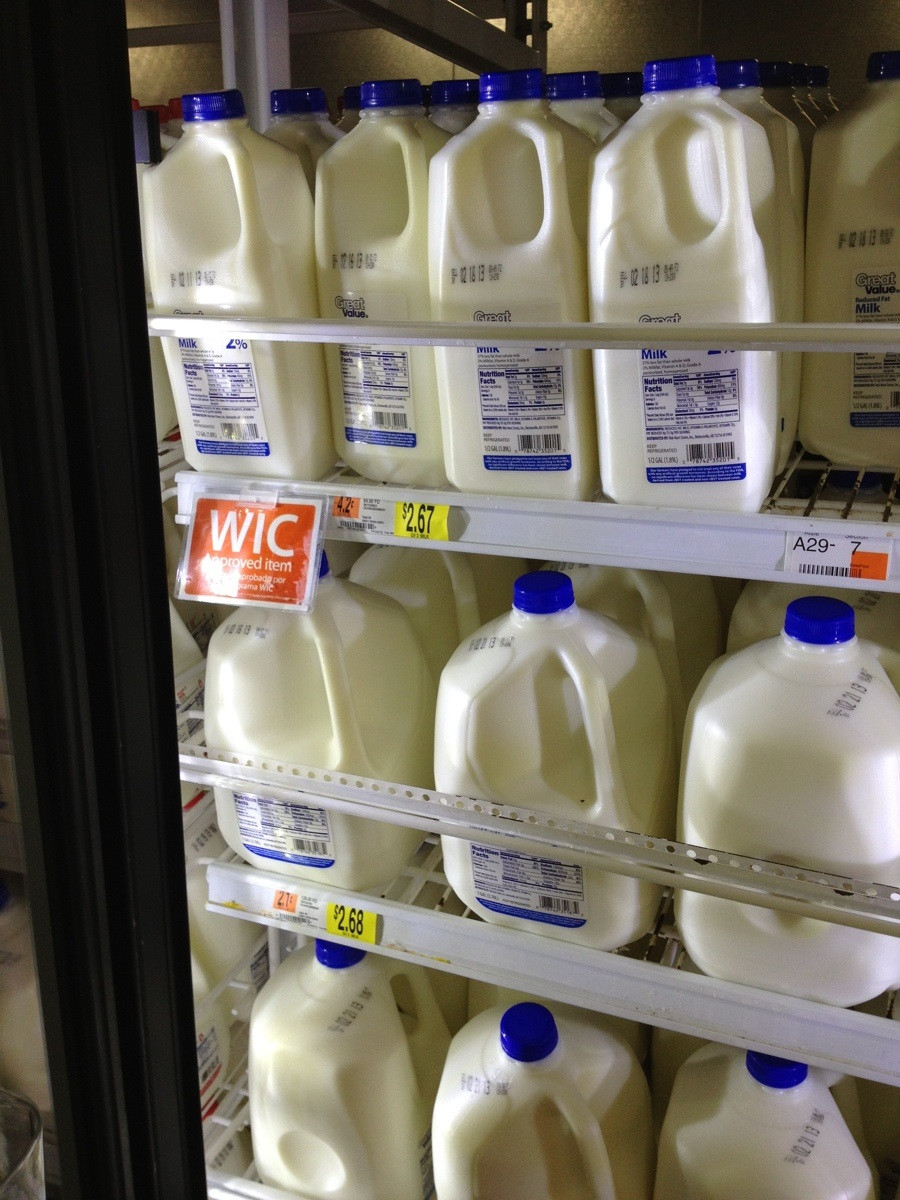milk: (433, 580, 673, 945), (593, 58, 775, 500), (689, 594, 900, 968), (431, 78, 591, 514), (155, 87, 315, 467), (215, 609, 413, 907), (246, 918, 425, 1200), (322, 89, 444, 478), (426, 1005, 658, 1200), (671, 1040, 890, 1200), (817, 47, 900, 446)
